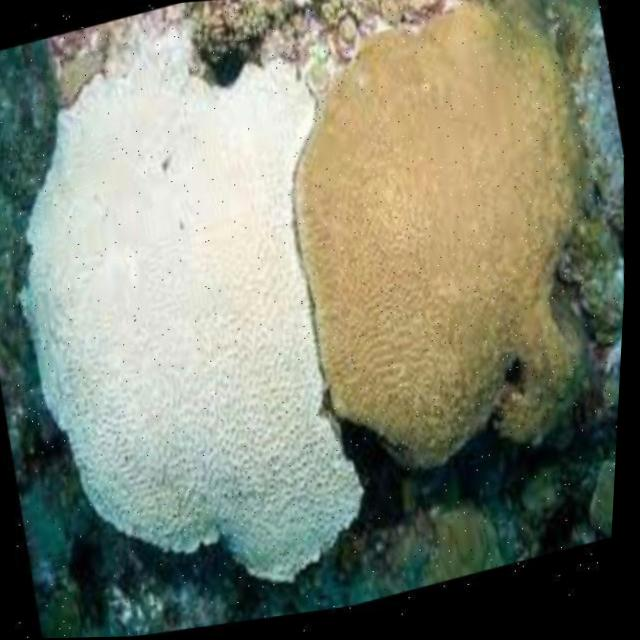Bleached Coral: (0, 0, 393, 602)
Healthy Coral: (276, 0, 640, 478)
